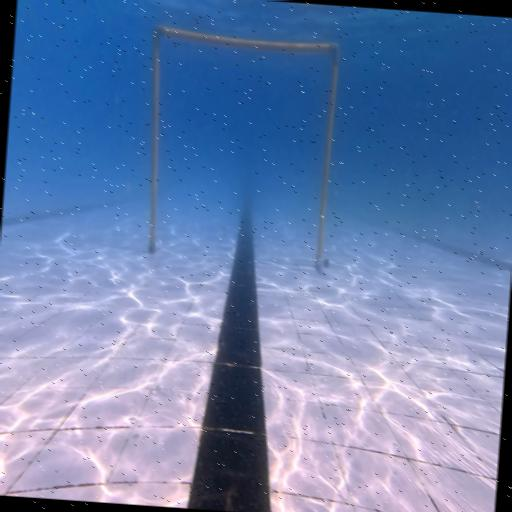gate: (138, 24, 344, 267)
